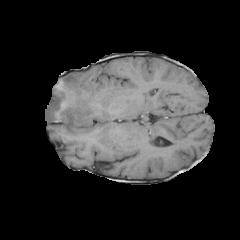glioma: (45, 72, 106, 129)
